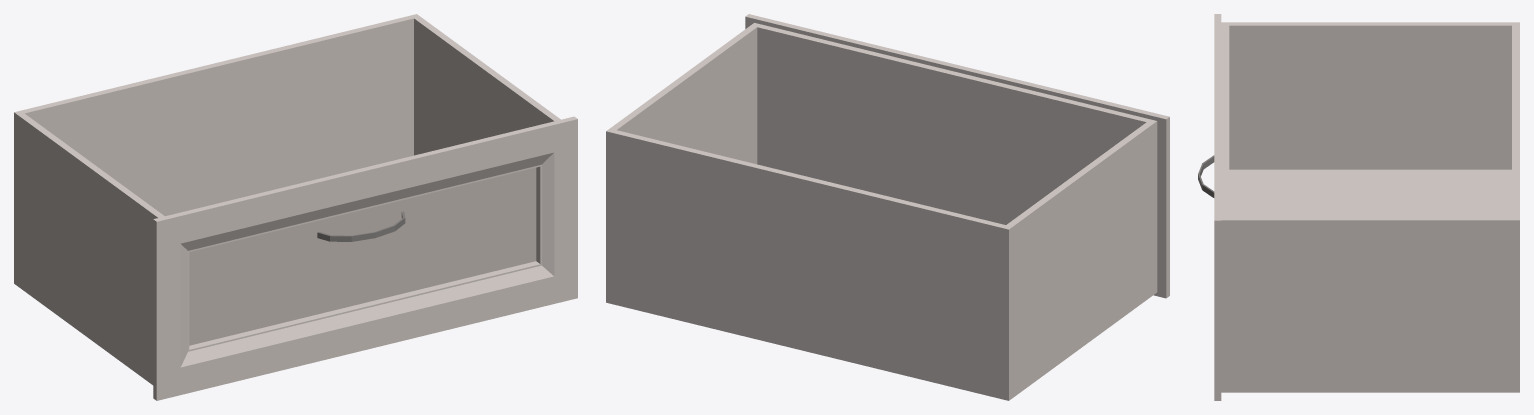
File: Cupboard_13_02.fbx
3 views of the same model, side by side, from view 1: azimuth 30°, elevation 25°; view 2: azimuth 150°, elevation 25°; view 3: azimuth 270°, elevation 25° (orthographic).
Parts seen in each view (by area): view 1: Cupboard_13_02; view 2: Cupboard_13_02; view 3: Cupboard_13_02.
Boxes of the visible parts, x1=… form: Cupboard_13_02: x1=14, y1=14, x2=577, y2=400; Cupboard_13_02: x1=606, y1=14, x2=1169, y2=400; Cupboard_13_02: x1=1198, y1=14, x2=1519, y2=400.
Size of the model in its own units: 78.8 by 32.03 by 51.84.
